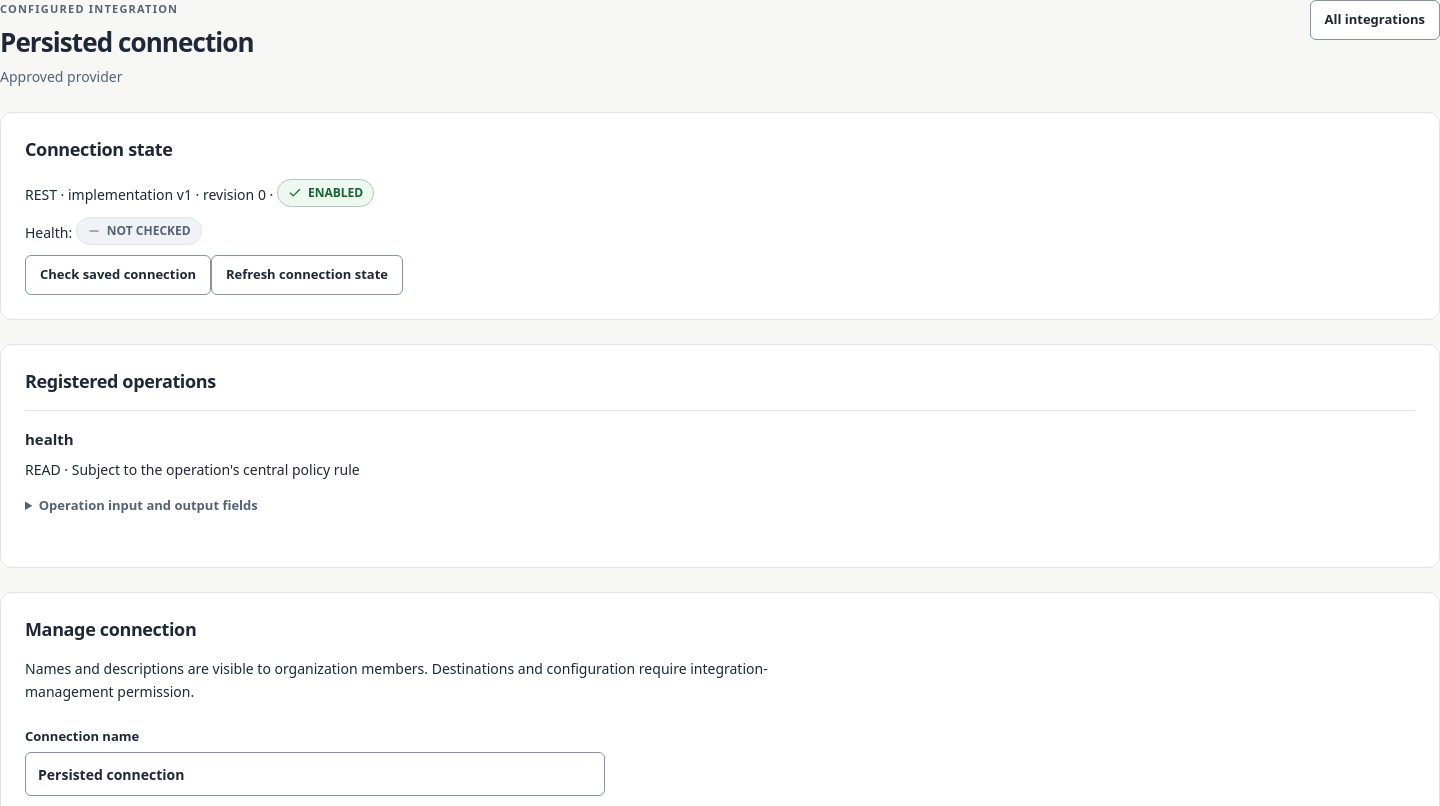
Scenario: requires explicit reload confirmation before discarding edits
Replace the text in the field labelled "Connection name" with "Unapplied edit". click: (315, 774)
box: [25,752,605,796]
(page scrolled)
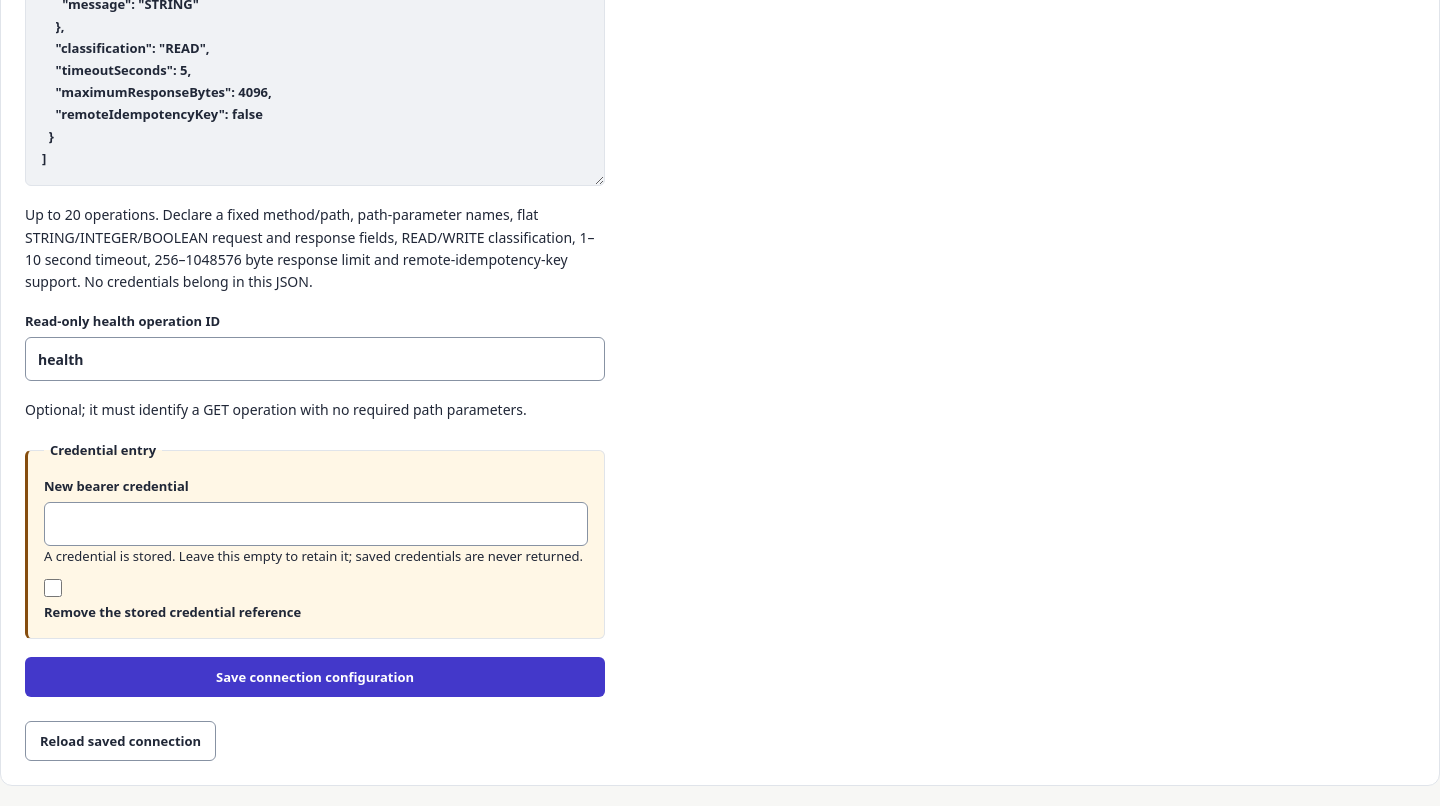
Click the button "Reload saved connection". click: click(121, 741)
box: [25,721,216,761]
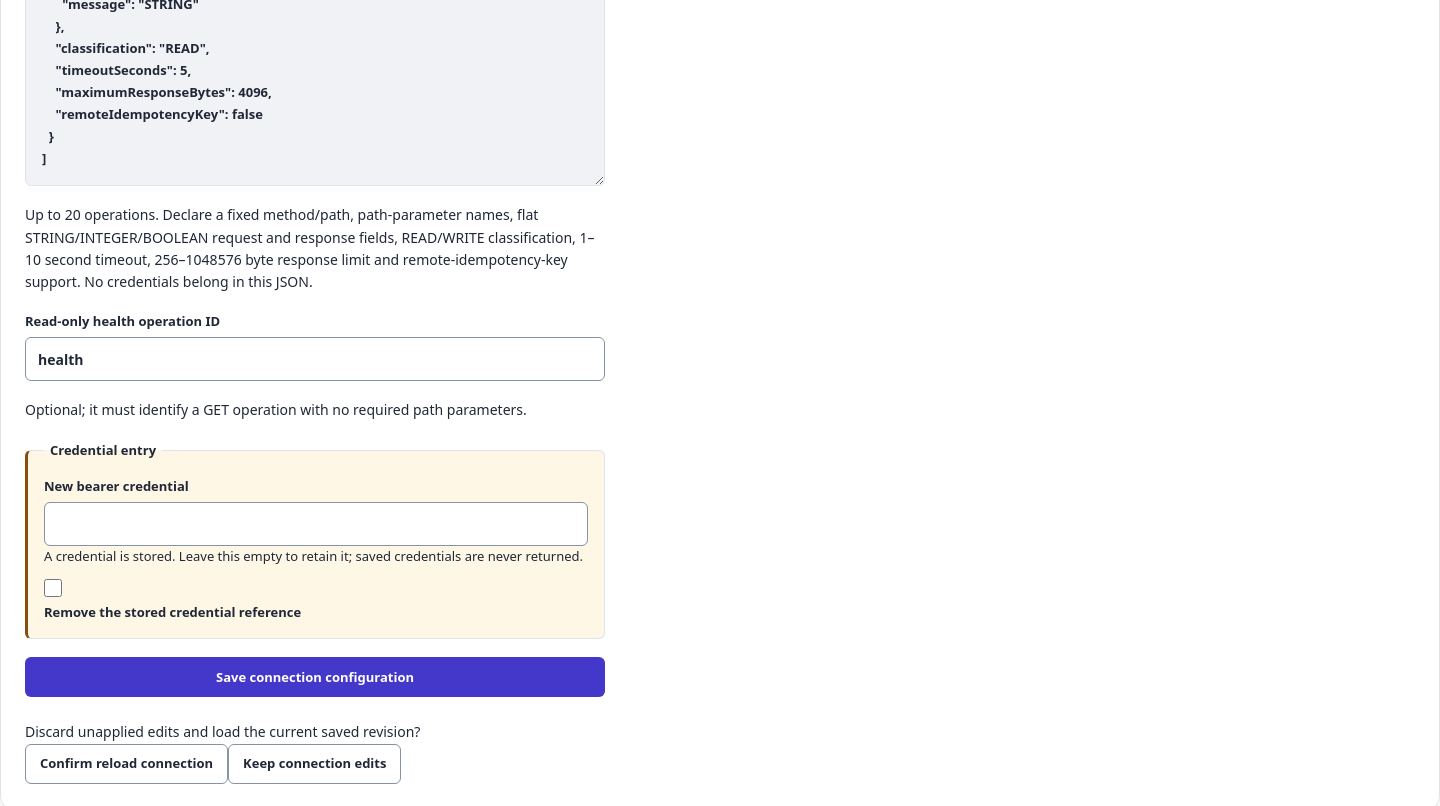
Click the button "Confirm reload connection". click: click(127, 764)
box: [25,744,228,784]
(page scrolled)
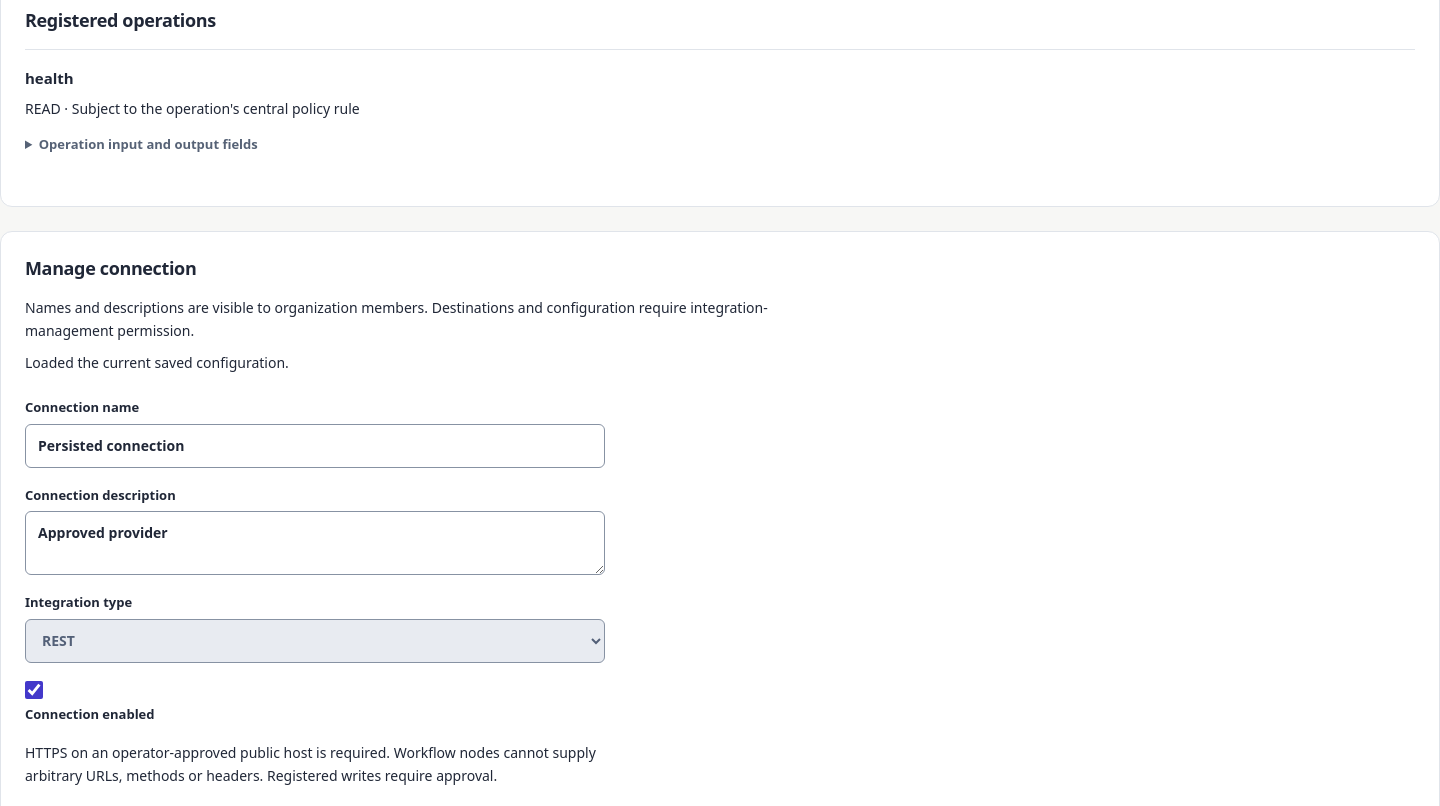
Expected: the field labelled "Connection name" holds "Persisted connection", [25,424,605,468]
